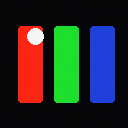2 circle: (27, 28, 43, 44)
